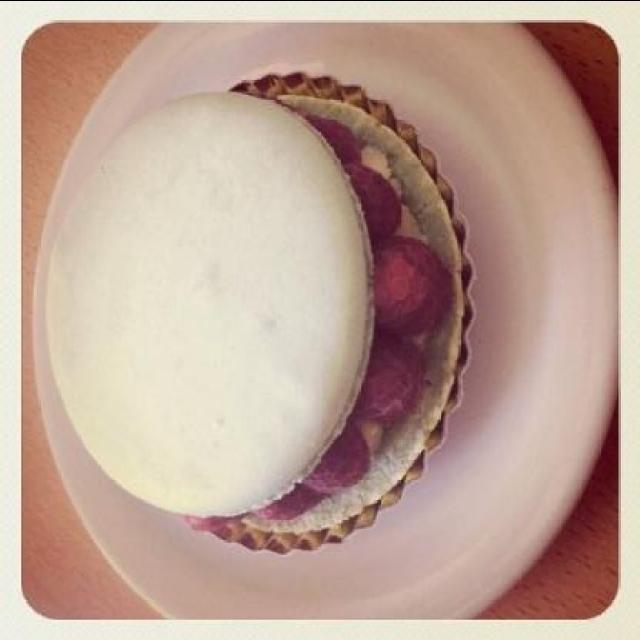Apple pie: (41, 78, 462, 536)
